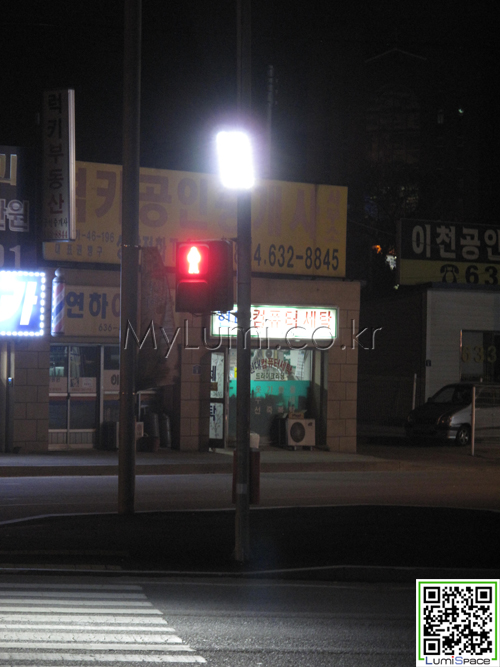traffic_light: (175, 236, 210, 313)
